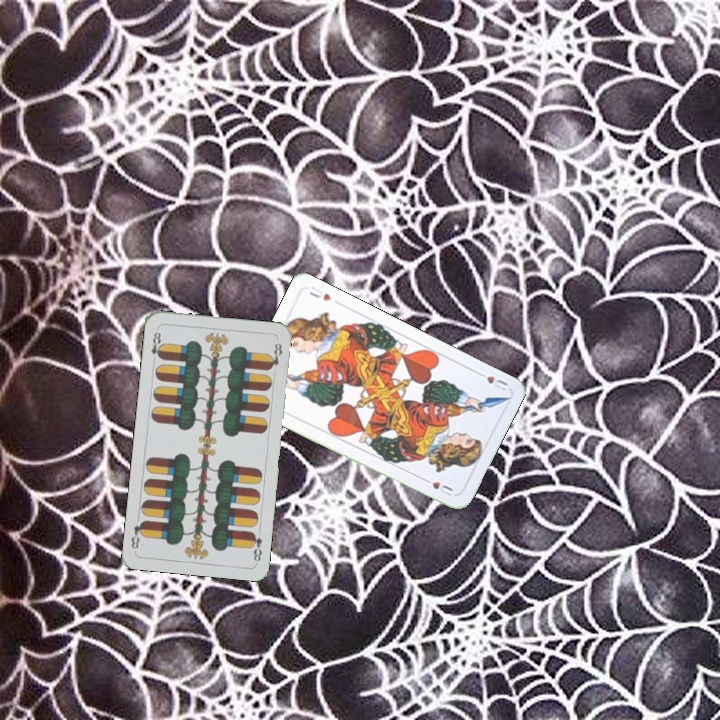E8: (147, 328, 165, 366), (247, 528, 265, 565)
HU: (473, 367, 511, 393)
